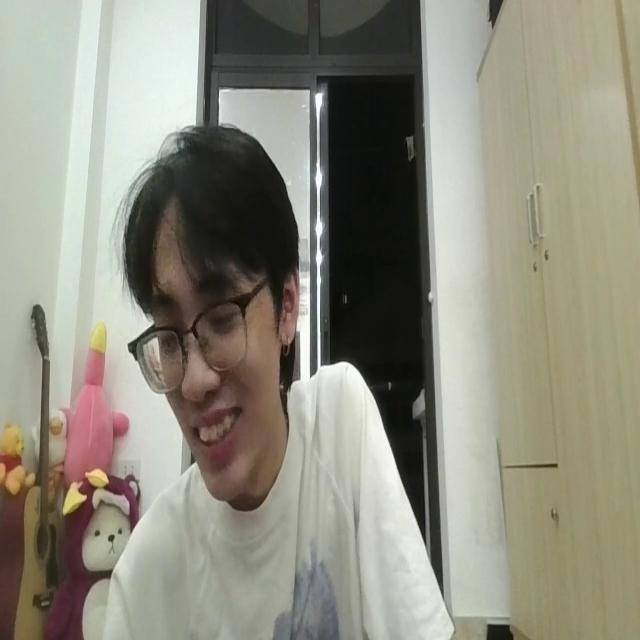student: (93, 120, 457, 640)
